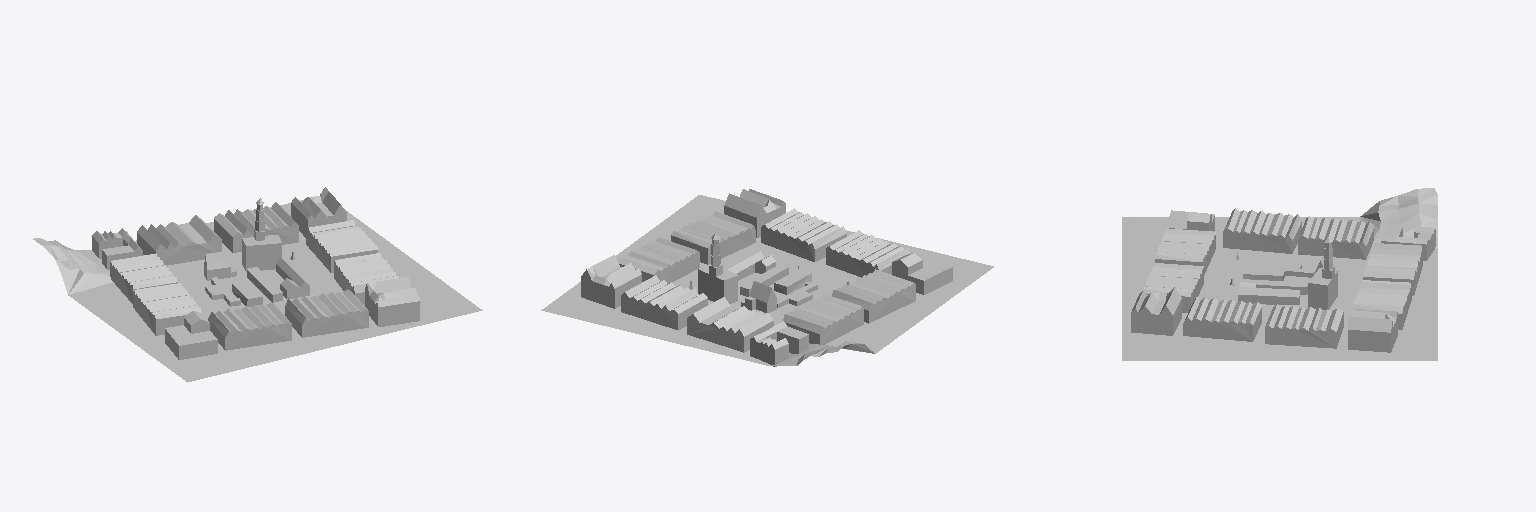
The model's file is poznan.obj.
3 views of the same model, side by side, from view 1: azimuth 30°, elevation 25°; view 2: azimuth 150°, elevation 25°; view 3: azimuth 270°, elevation 25° (orthographic).
Size of the model in its own units: 294 by 63.61 by 273.